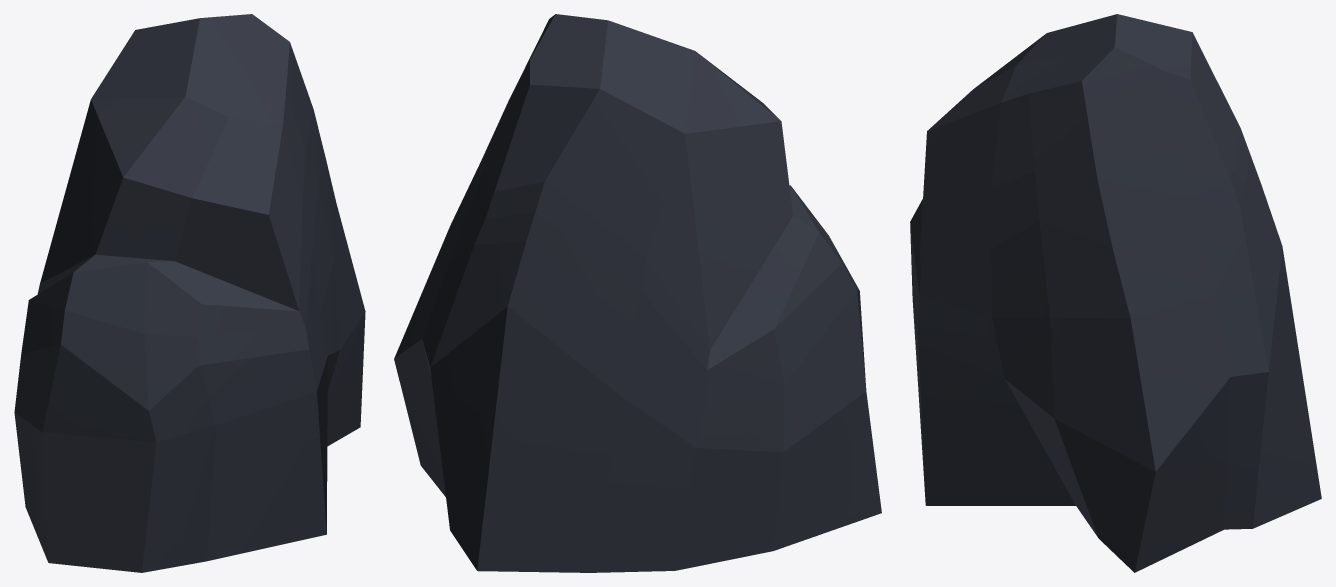
The model's file is SM_Rock7.fbx.
3 views of the same model, side by side, from view 1: azimuth 30°, elevation 25°; view 2: azimuth 150°, elevation 25°; view 3: azimuth 270°, elevation 25° (orthographic). The views are drawn at different scales.
Parts seen in each view (by area): view 1: SM_Rock7_Body; view 2: SM_Rock7_Body; view 3: SM_Rock7_Body.
Part boxes in pixels (x1,y1,x2,y2): SM_Rock7_Body: (14, 14, 365, 572); SM_Rock7_Body: (394, 14, 881, 572); SM_Rock7_Body: (910, 14, 1321, 572).
Bounding box in the file's own units: 231 × 259 × 204.
